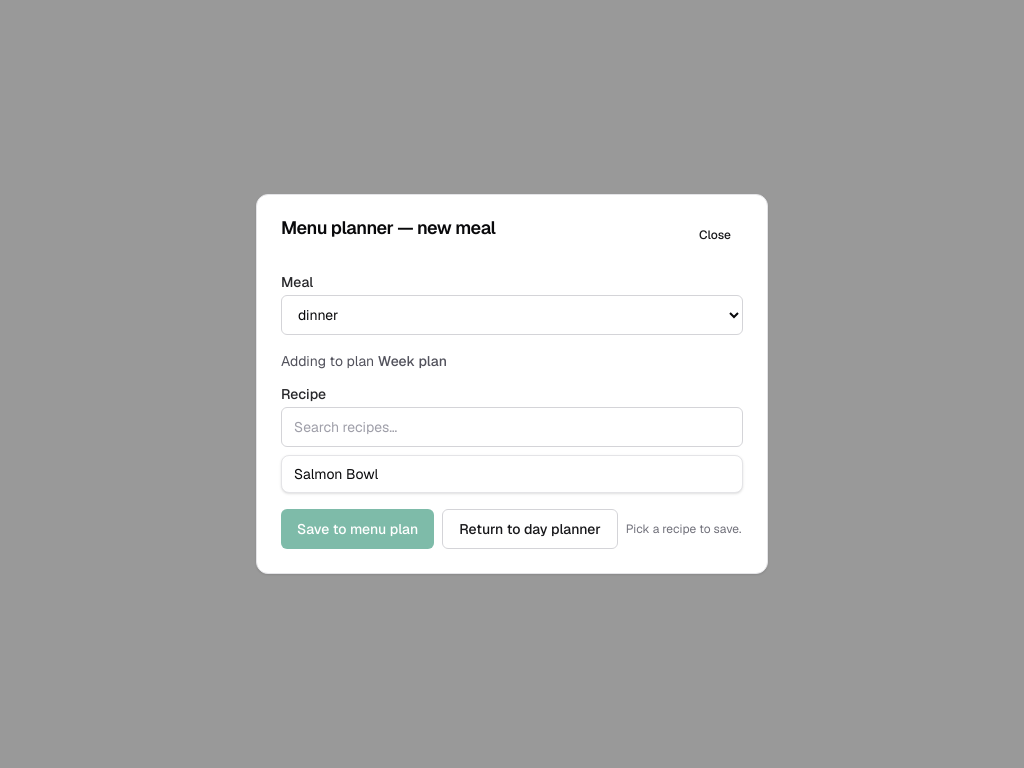
Test: MealDialog — error paths › surfaces FORBIDDEN as a permission message and stays open
In the field with test id "recipe-picker-search": (512, 427) top-left (281, 407), bottom-right (743, 447), type "salmon"
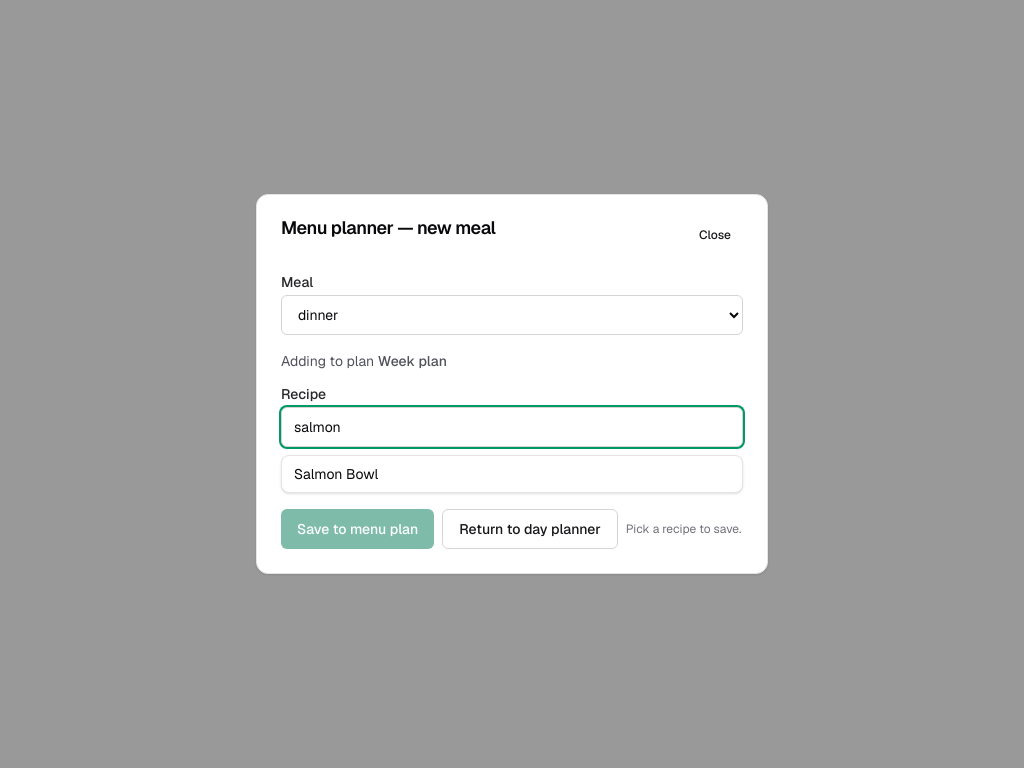
Click the button with test id "recipe-picker-result": click(336, 474) top-left (282, 456), bottom-right (742, 492)
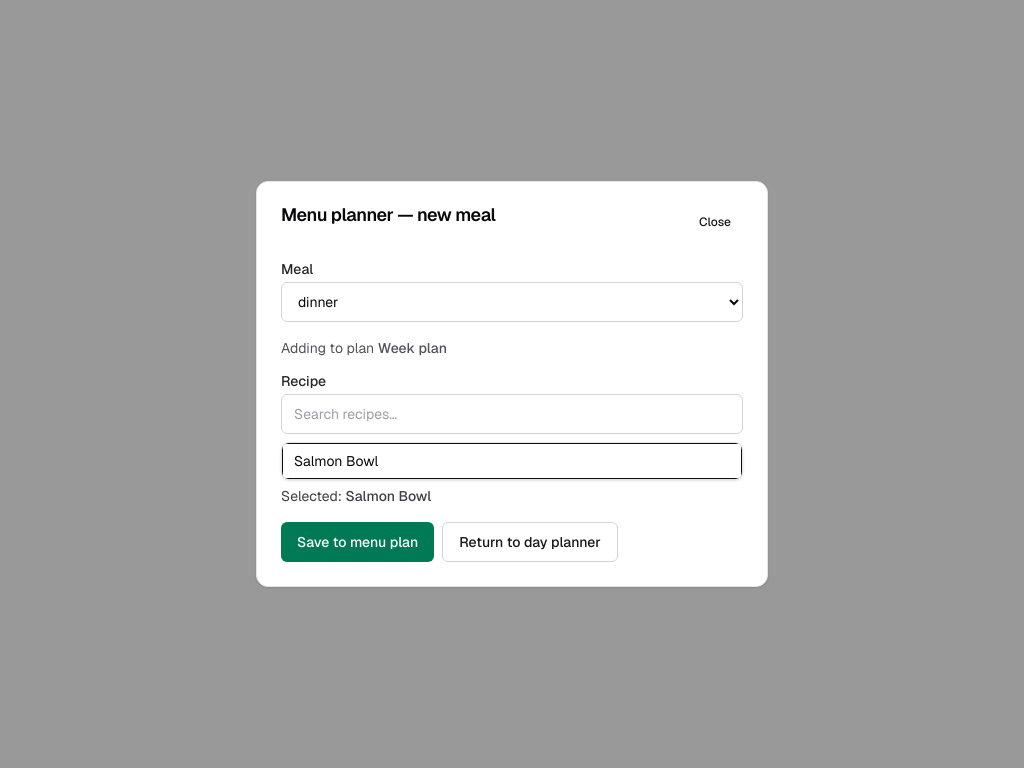
Expected: the element with test id "meal-dialog-recipe-selected" is shown, top-left (281, 487), bottom-right (431, 505)
Expected: the button with test id "meal-dialog-save" is enabled
Click the button with test id "meal-dialog-save": click(358, 542) top-left (281, 522), bottom-right (434, 562)
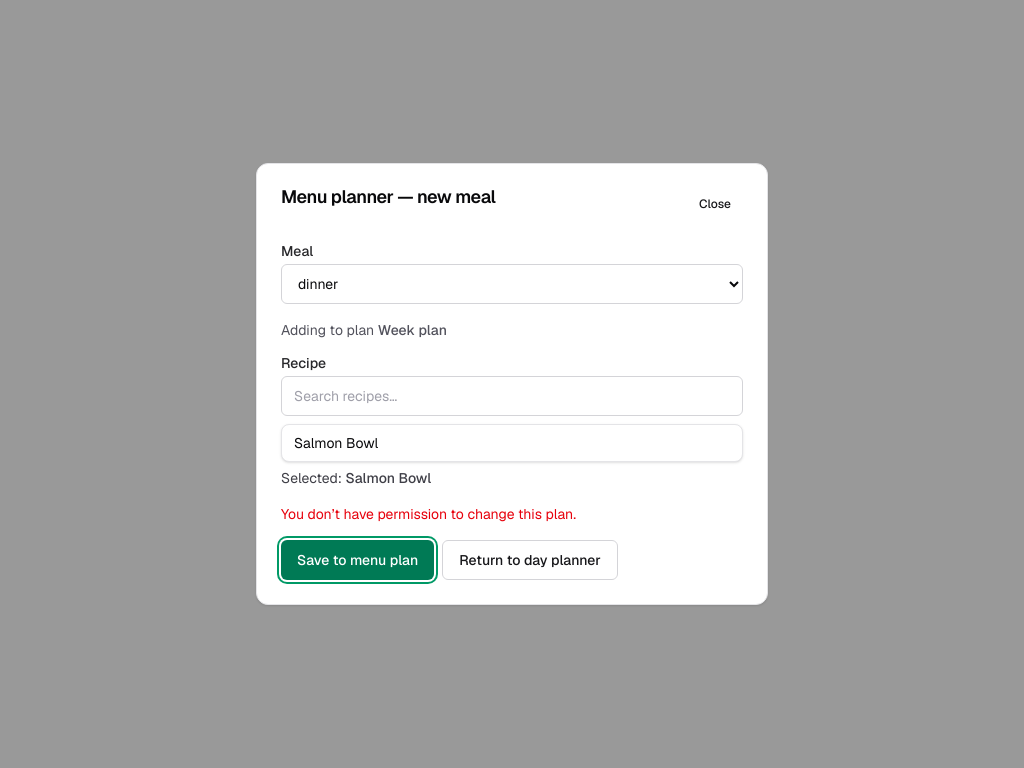
Expected: the message shows "permission", top-left (281, 505), bottom-right (576, 523)
